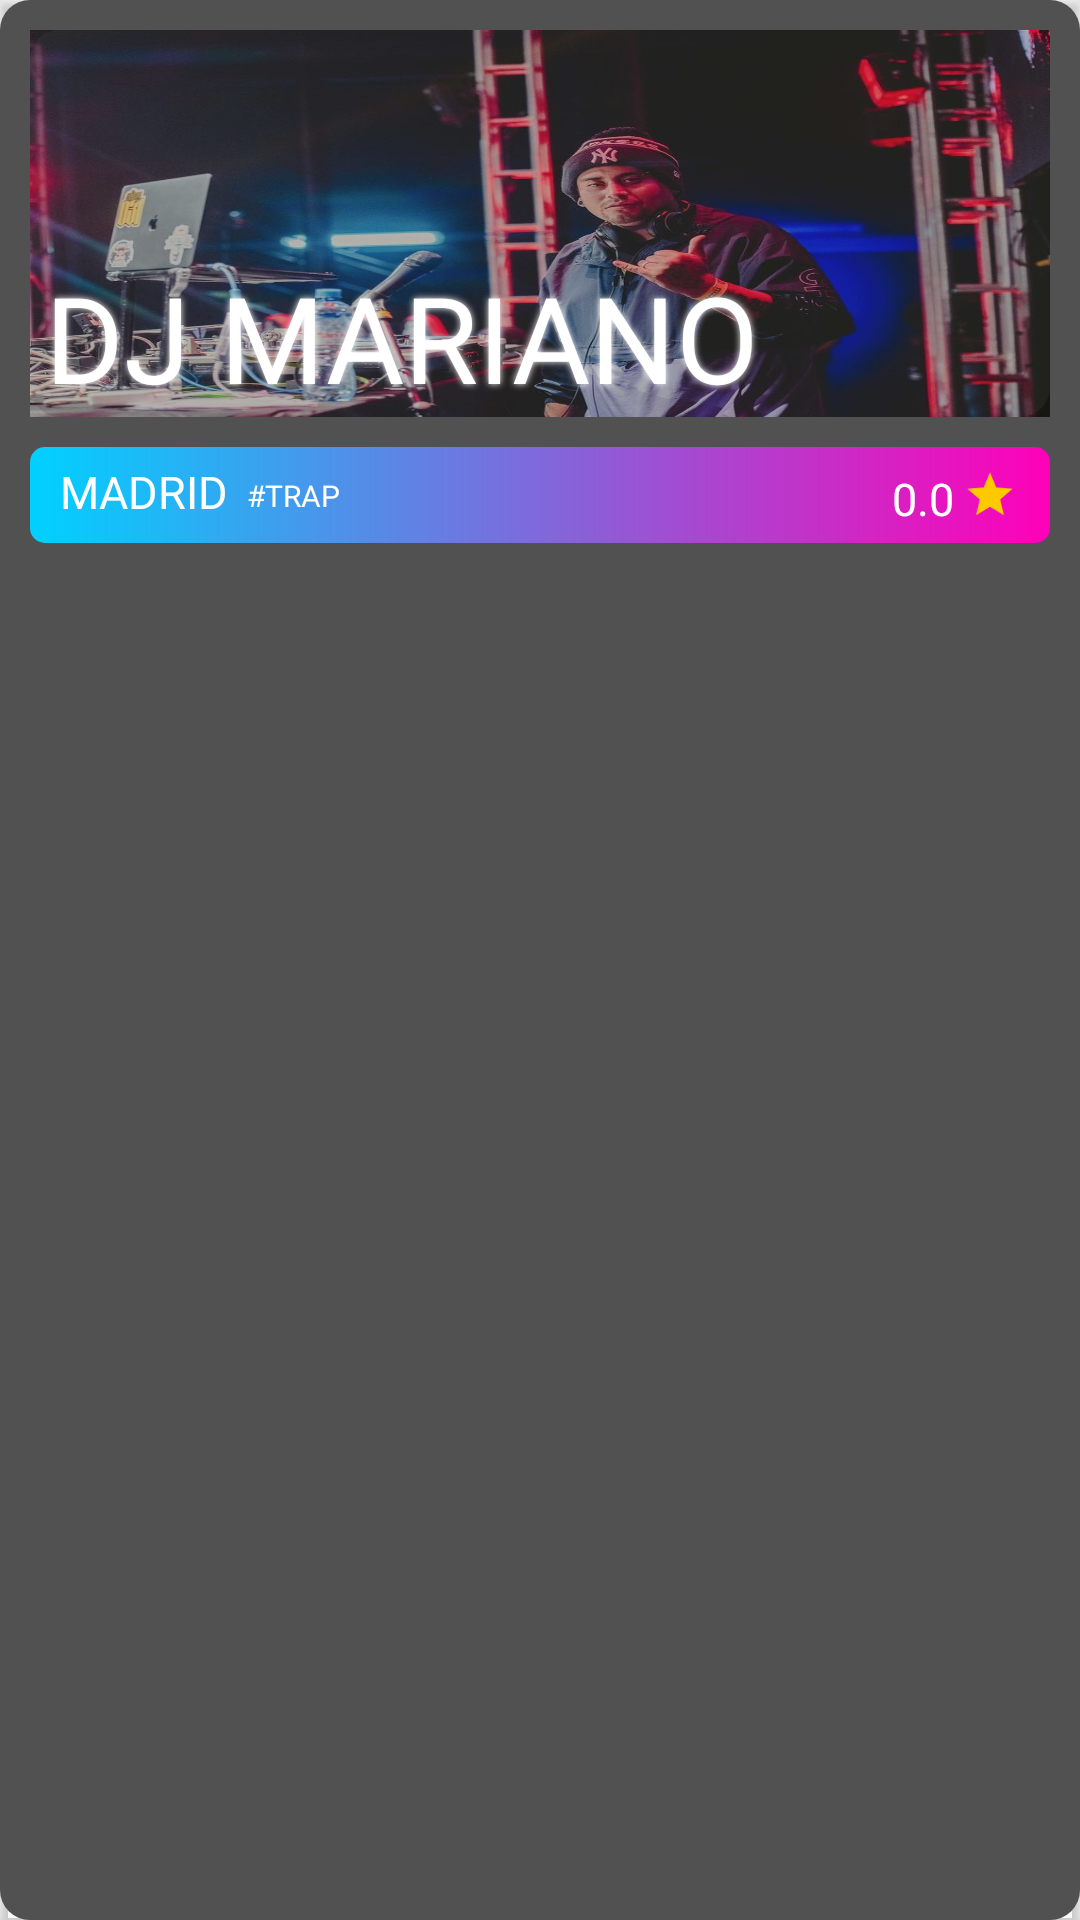

Point at icon controls on the screen. Image size 1080 × 1920, points as point (x, y).
estrella: point (983, 495)
